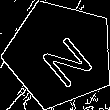N_NW: (27, 22, 92, 86)
